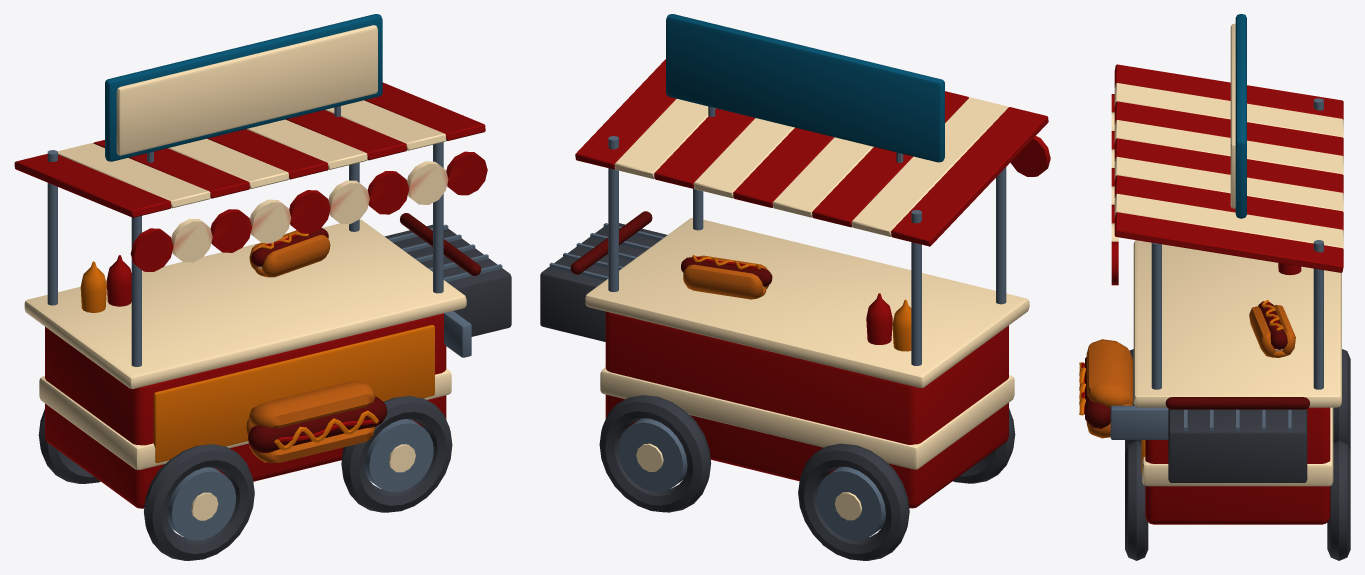
The model's file is HotDogStand.obj.
3 renders of one model, left to right at view 1: azimuth 30°, elevation 25°; view 2: azimuth 150°, elevation 25°; view 3: azimuth 270°, elevation 25°, orthographic. The views are drawn at different scales.
Parts seen in each view (by area): view 1: HotDogStand; view 2: HotDogStand; view 3: HotDogStand.
Part boxes in pixels (bbox=[...]): HotDogStand: bbox=[14, 14, 511, 560]; HotDogStand: bbox=[540, 14, 1050, 560]; HotDogStand: bbox=[1079, 14, 1350, 560].
Size of the model in its own units: 7.85 by 8.24 by 4.7.
